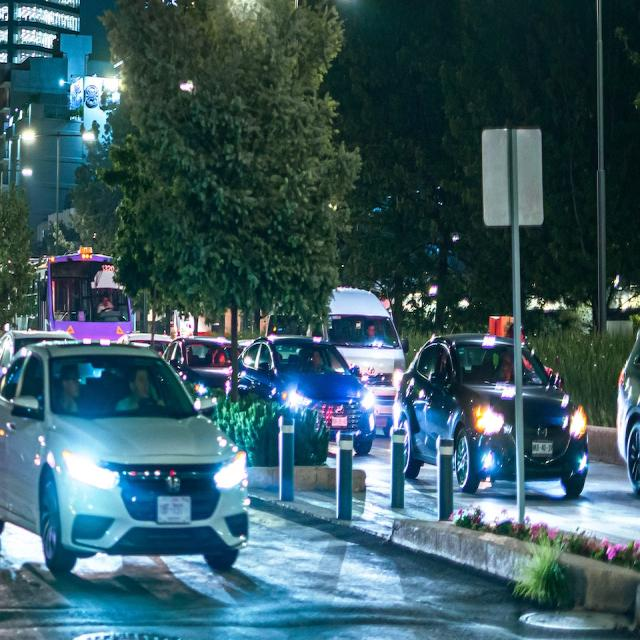bus: (8, 250, 134, 346)
car: (0, 339, 250, 576), (391, 331, 590, 498), (268, 286, 407, 434), (225, 336, 376, 454), (162, 334, 242, 405), (615, 323, 640, 494)
